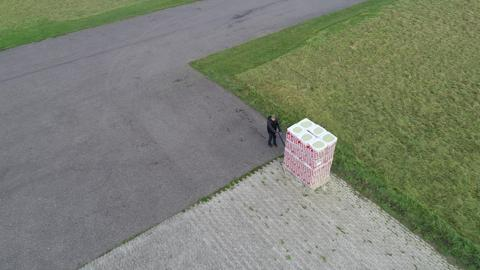RockwoolPallet: (283, 118, 338, 190)
